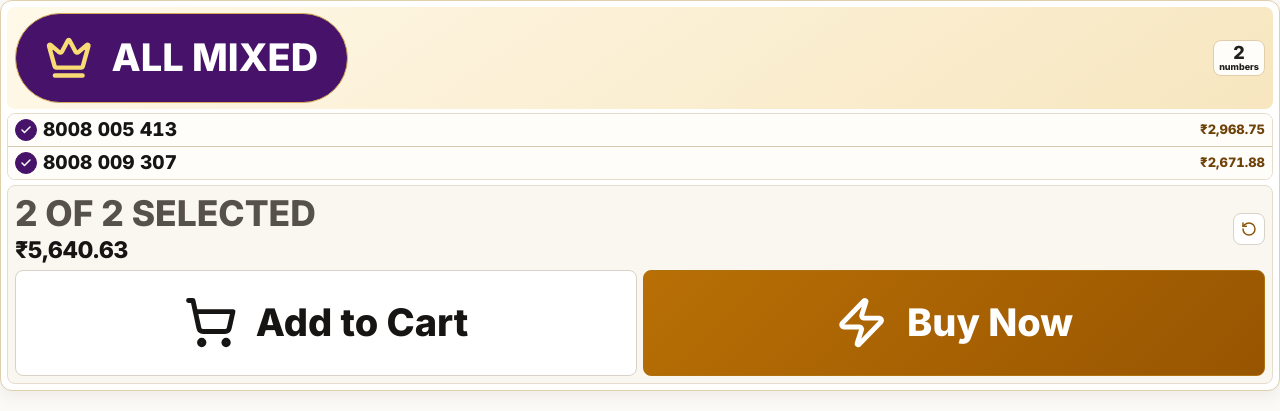
Scenario: reference number card › family and corporate pack selections total the saved final prices without applying another discount
Expected: the text with class "reference-family__total" reads "₹5,640.63", [15,236,128,264]
Expected: the text with class "reference-family__price" reads "₹2,671.88", [1200,154,1265,170]
Click the button named "Deselect 8008005413" at (26, 130), box [15,119,37,141]
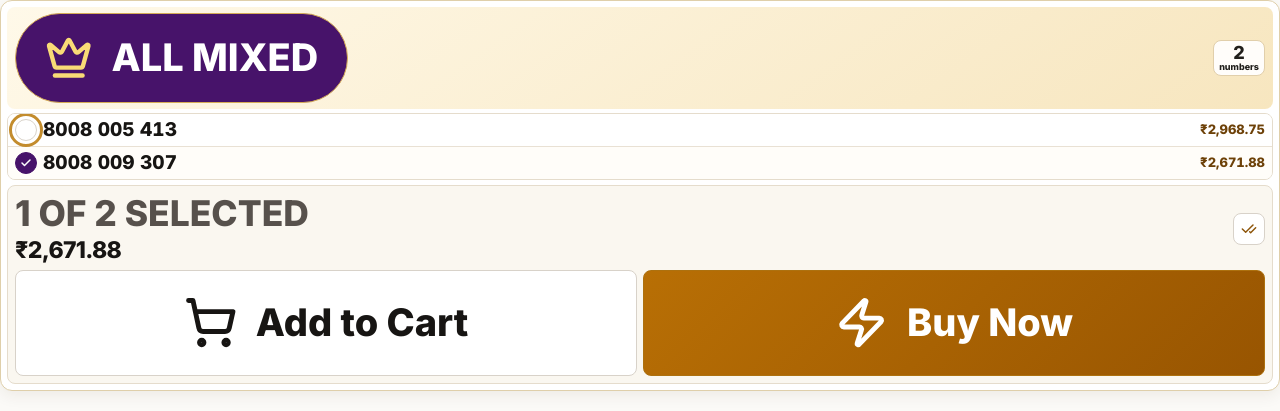
Expected: the text with class "reference-family__total" reads "₹2,671.88", [15,236,121,264]
